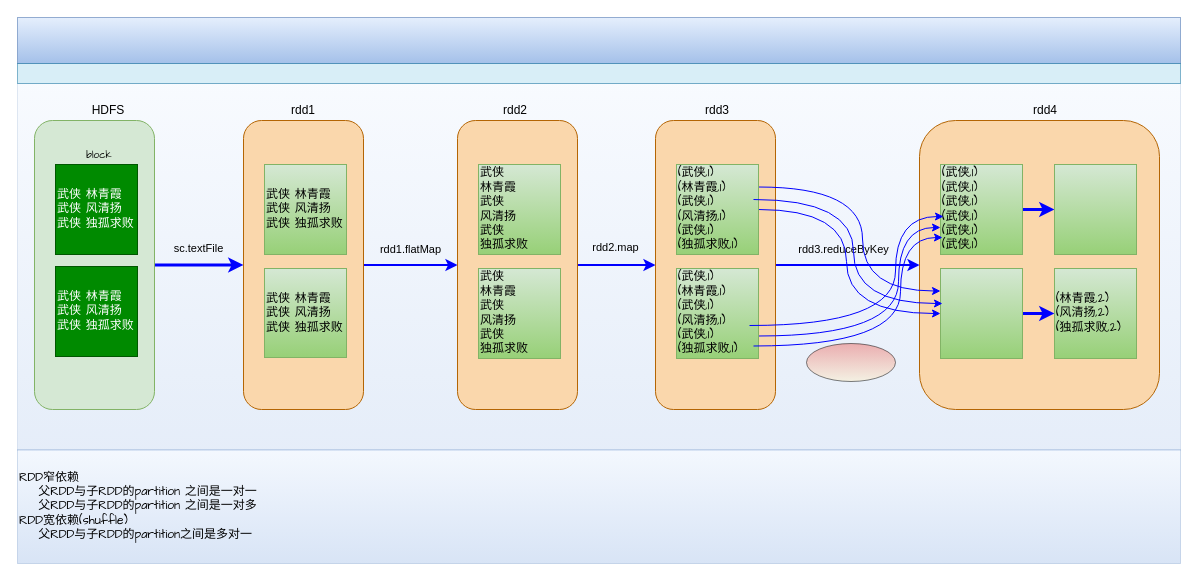
This 1198x581 diagram has some shape labels left out. The shapes that lost their labels are listed below. From the top down, each one's box as (x1, y1, x2, y2) in pixels, then its label:
(16, 16, 1180, 64): RDD的宽窄依赖
(16, 62, 1180, 84): 作者：独孤求败 邮箱：david.tian@live.com
(1054, 164, 1136, 254): (武侠,6)
(940, 268, 1022, 358): (林青霞,1) (林青霞,1) (风清扬,1) (风清扬,1) (独孤求败,1) (独孤求败,1)
(806, 342, 896, 382): shuffle
